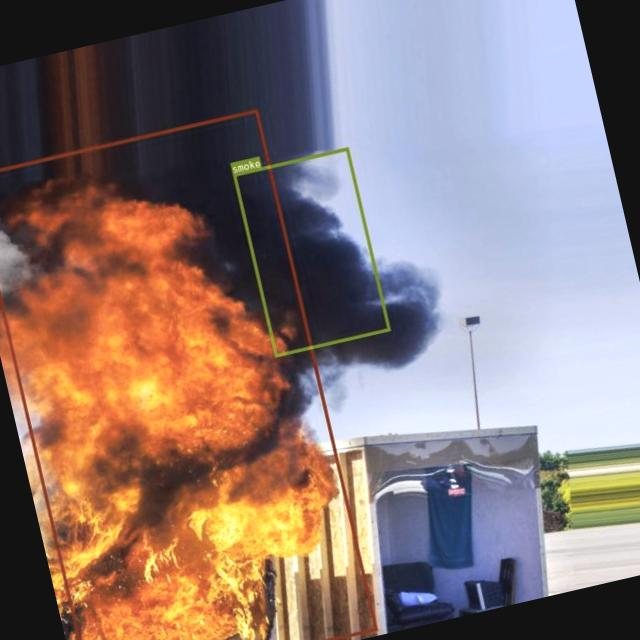fire: (0, 107, 377, 640)
smoke: (232, 146, 390, 356)
